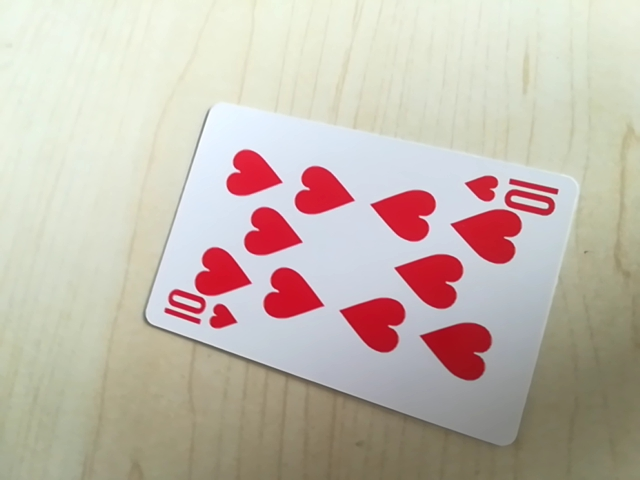hx 10: (458, 170, 560, 213), (157, 292, 237, 331)
